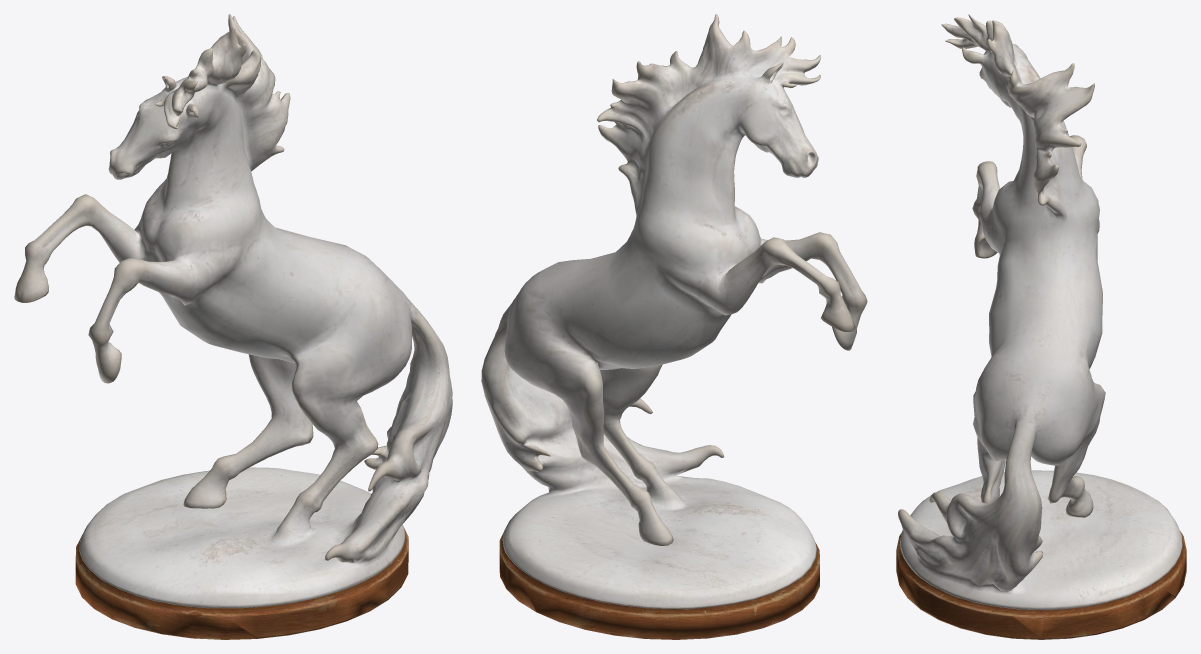
File: ph-horse-statue.glb
3 renders of one model, left to right at view 1: azimuth 30°, elevation 25°; view 2: azimuth 150°, elevation 25°; view 3: azimuth 270°, elevation 25°, orthographic. The views are drawn at different scales.
Visible parts, largest first — view 1: horse_statue_01; view 2: horse_statue_01; view 3: horse_statue_01.
Boxes of the visible parts, x1,y1,x2,y2 form: horse_statue_01: [14, 14, 452, 639]; horse_statue_01: [481, 14, 867, 639]; horse_statue_01: [896, 14, 1186, 639].
Size of the model in its own units: 0.1638 by 0.22 by 0.1078.
1 material, 1 textured.
